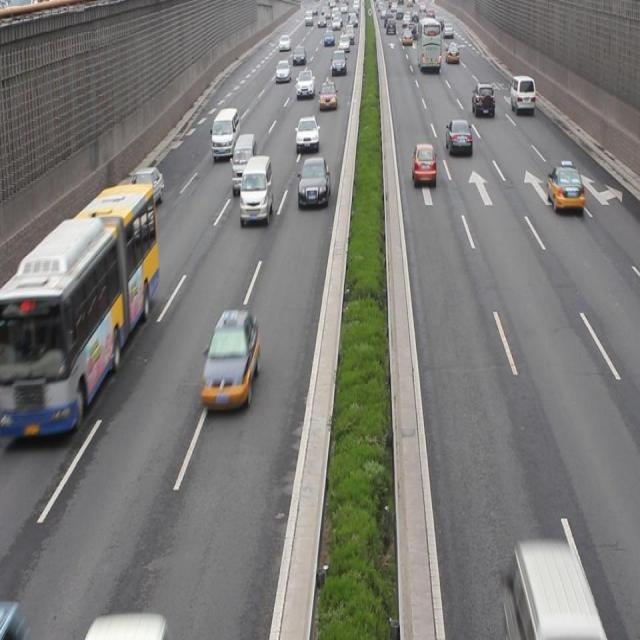car: (201, 307, 259, 412), (544, 162, 583, 210), (298, 158, 329, 206), (128, 168, 164, 207), (444, 118, 472, 156), (294, 115, 319, 154), (412, 143, 435, 184)
truck: (239, 155, 273, 223), (231, 133, 256, 196), (210, 109, 238, 160)
van: (1, 183, 160, 442)
